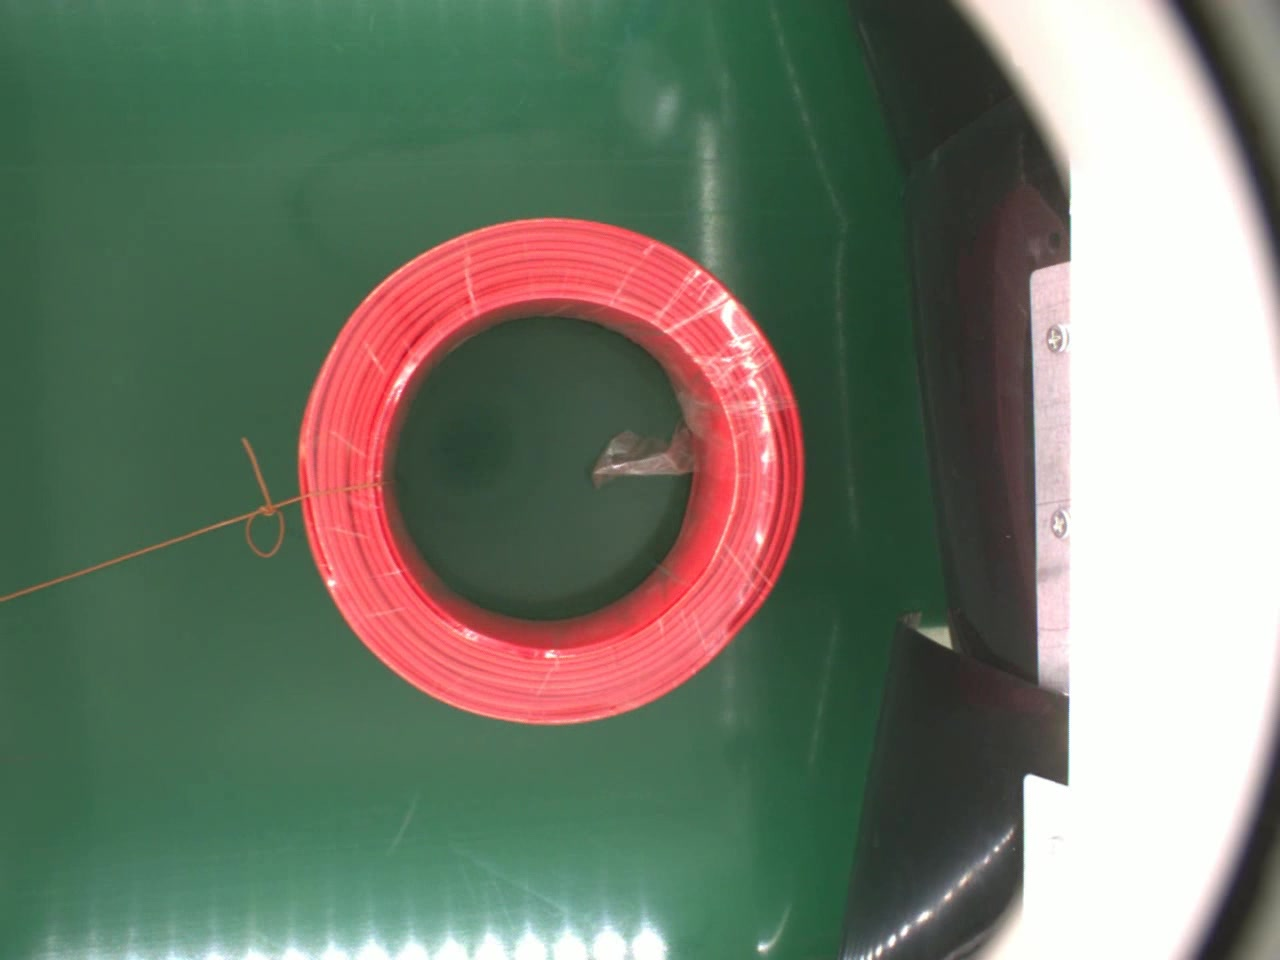red: (292, 214, 807, 727)
